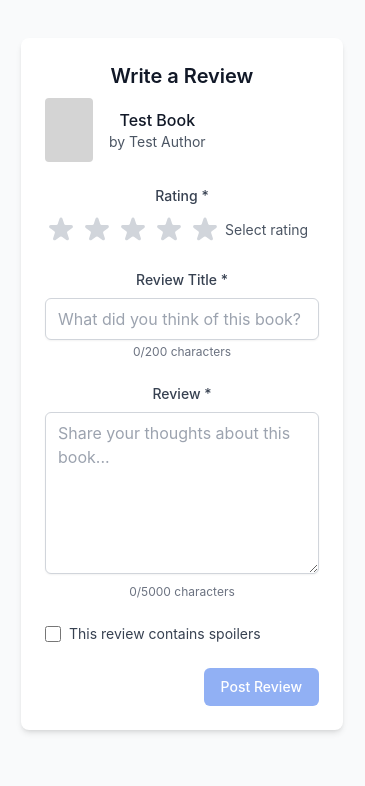
Test: ReviewForm › handles API error
Click the 4th button: {"x": 169, "y": 230} x1=153 y1=214 x2=185 y2=246
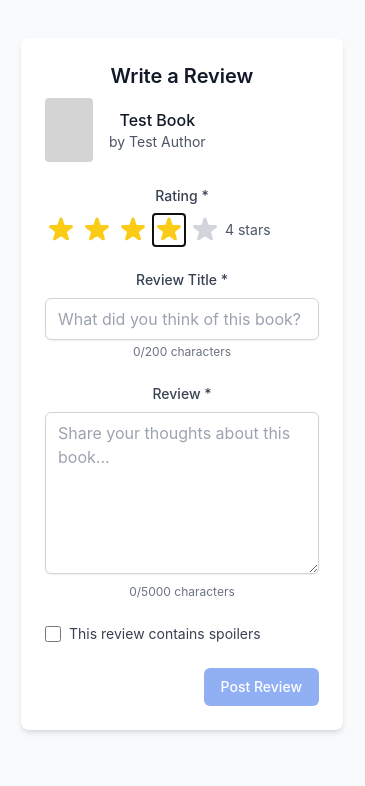
In the field labelled "Review Title *": {"x": 182, "y": 319} x1=45 y1=298 x2=319 y2=340, type "Test"
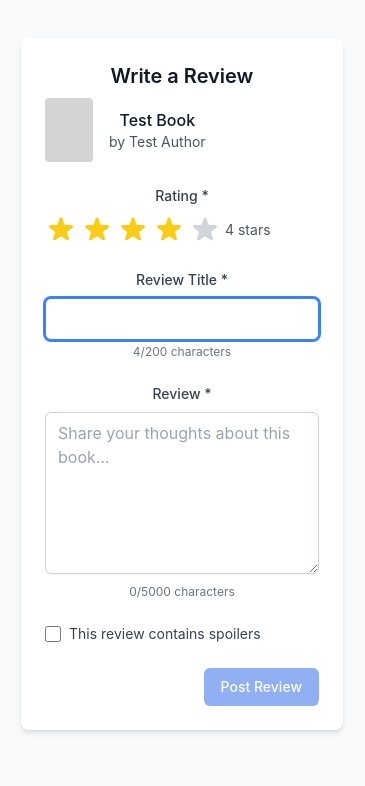
In the text box labelled "Review *": {"x": 182, "y": 493} x1=45 y1=412 x2=319 y2=574, type "Test content"
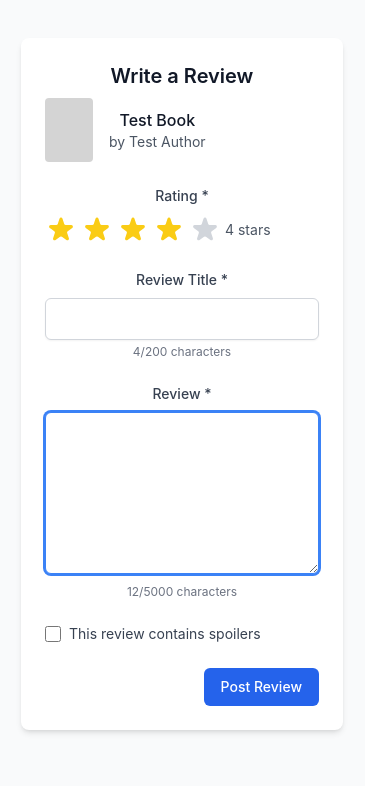
Click the button "Post Review": {"x": 261, "y": 687} x1=204 y1=668 x2=319 y2=706
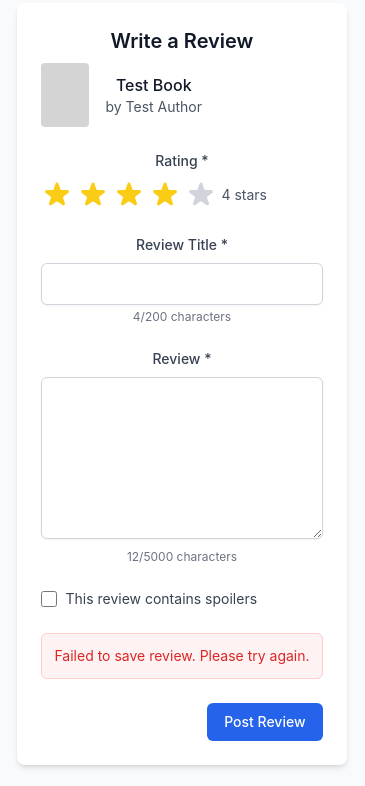
Check: the text "Failed to save review. Please try again." is shown, box x1=54 y1=646 x2=310 y2=666
